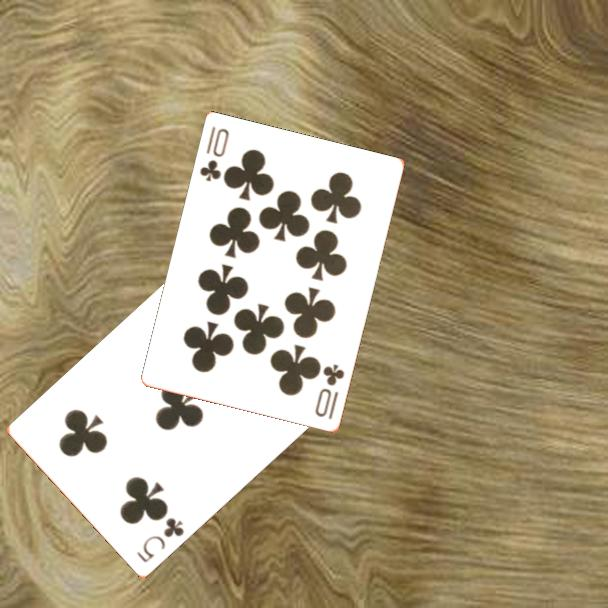c05: (133, 514, 187, 566)
c10: (312, 361, 348, 423), (196, 123, 232, 185)
